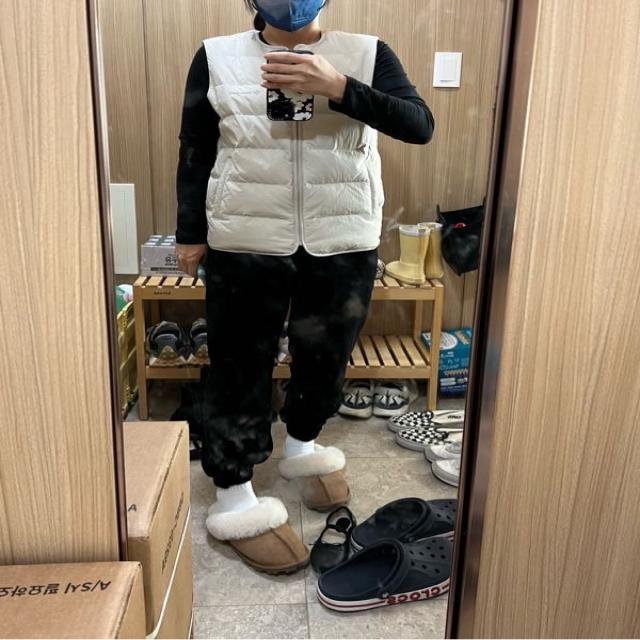longsleeve: (175, 29, 437, 258)
padding: (201, 32, 383, 256)
trainingpants: (199, 239, 380, 487)
